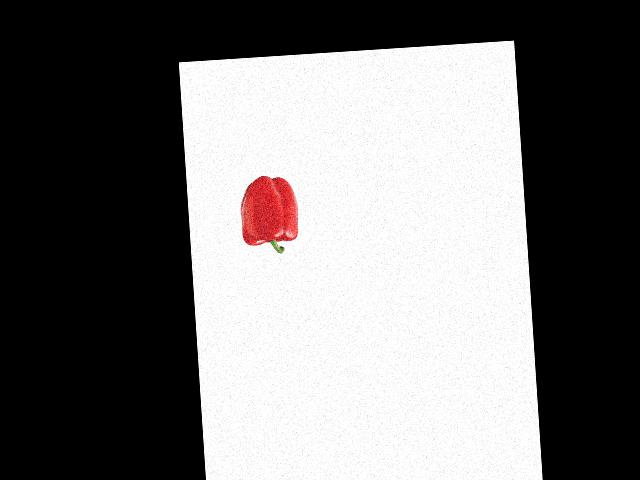bell_pepper: (234, 171, 303, 256)
